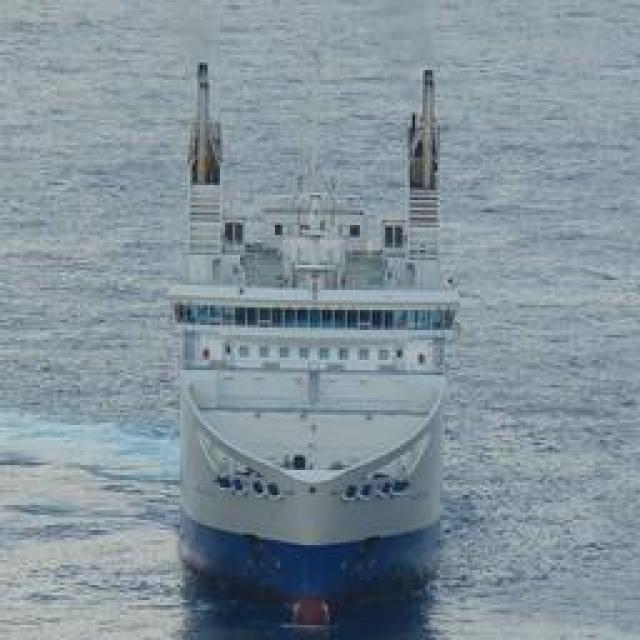CIV_Ship: (172, 42, 458, 582)
